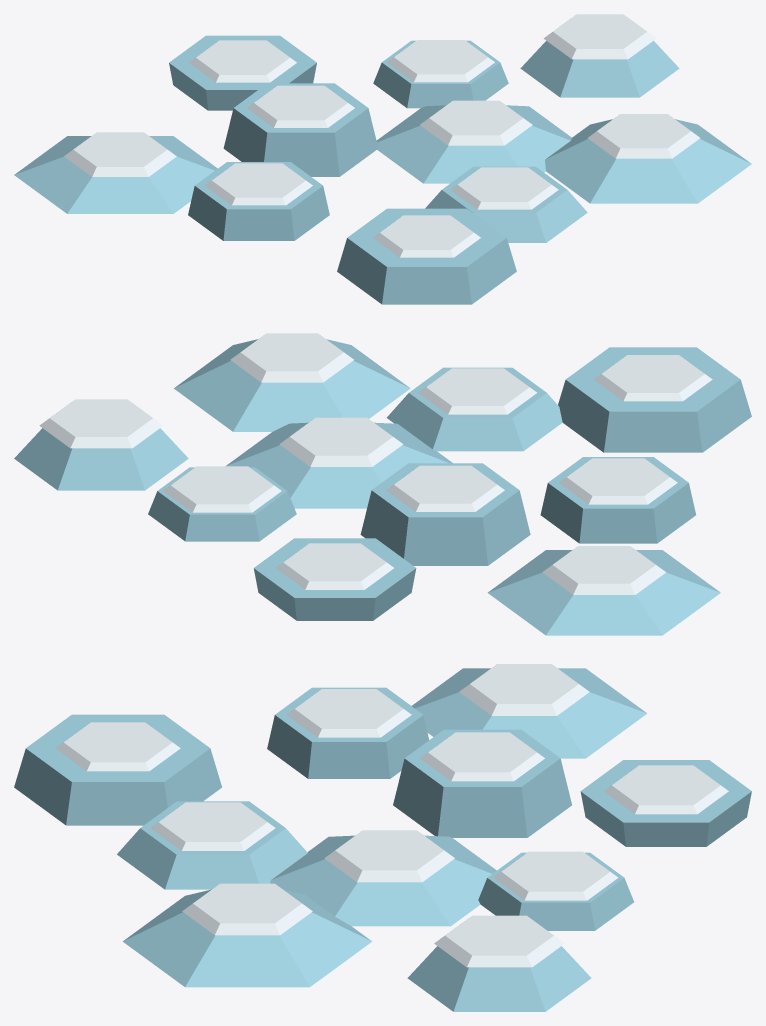
Rendered from FEATURE_ICE_v01.fbx.
The picture shows the model from 3 angles, top to bottom: view 1: azimuth 30°, elevation 25°; view 2: azimuth 150°, elevation 25°; view 3: azimuth 270°, elevation 25°; orthographic projection. The views are drawn at different scales.
Visible parts, largest first — view 1: Ice_floe.017, Ice_floe.015, Ice_floe.019, Ice_floe.011, Ice_floe.010, Ice_floe.014, Ice_floe.018, Ice_floe.016, Ice_floe.012, Snow_cap.018, Snow_cap.010, Snow_cap.015 (+8 smaller); view 2: Ice_floe.017, Ice_floe.015, Ice_floe.019, Ice_floe.011, Ice_floe.010, Ice_floe.012, Ice_floe.014, Ice_floe.018, Ice_floe.016, Ice_floe.013, Snow_cap.018, Snow_cap.015 (+8 smaller); view 3: Ice_floe.017, Ice_floe.015, Ice_floe.011, Ice_floe.010, Ice_floe.019, Ice_floe.012, Ice_floe.018, Ice_floe.016, Ice_floe.014, Snow_cap.010, Snow_cap.015, Snow_cap.018 (+8 smaller).
Boxes of the visible parts, x1,y1,x2,y2 form: Ice_floe.017: [337, 208, 516, 304]; Ice_floe.015: [545, 119, 751, 203]; Ice_floe.019: [14, 136, 217, 213]; Ice_floe.011: [223, 83, 378, 176]; Ice_floe.010: [376, 105, 571, 183]; Ice_floe.014: [188, 162, 329, 240]; Ice_floe.018: [520, 40, 679, 97]; Ice_floe.016: [169, 35, 316, 110]; Ice_floe.012: [425, 166, 587, 242]; Snow_cap.018: [543, 14, 656, 59]; Snow_cap.010: [420, 100, 532, 145]; Snow_cap.015: [588, 114, 699, 158]; Ice_floe.017: [558, 347, 751, 452]; Ice_floe.015: [174, 339, 410, 431]; Ice_floe.019: [487, 550, 720, 635]; Ice_floe.011: [360, 463, 530, 565]; Ice_floe.010: [226, 422, 452, 508]; Ice_floe.012: [387, 367, 562, 451]; Ice_floe.014: [540, 457, 695, 543]; Ice_floe.018: [14, 428, 188, 490]; Ice_floe.016: [253, 538, 416, 620]; Ice_floe.013: [148, 467, 296, 541]; Snow_cap.018: [39, 399, 163, 448]; Snow_cap.015: [230, 333, 353, 382]; Ice_floe.017: [14, 714, 221, 825]; Ice_floe.015: [123, 889, 371, 987]; Ice_floe.011: [393, 729, 571, 837]; Ice_floe.010: [270, 835, 496, 926]; Ice_floe.019: [412, 668, 646, 758]; Ice_floe.012: [117, 801, 307, 889]; Ice_floe.018: [407, 946, 591, 1011]; Ice_floe.016: [580, 760, 751, 846]; Ice_floe.014: [267, 687, 428, 778]; Snow_cap.010: [324, 830, 454, 882]; Snow_cap.015: [182, 883, 312, 935]; Snow_cap.018: [434, 915, 564, 967].
Bounding box in the file's own units: 149 × 10.69 × 135.
